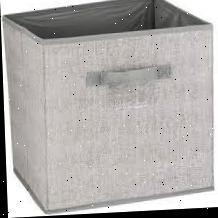cube: (3, 0, 215, 214)
